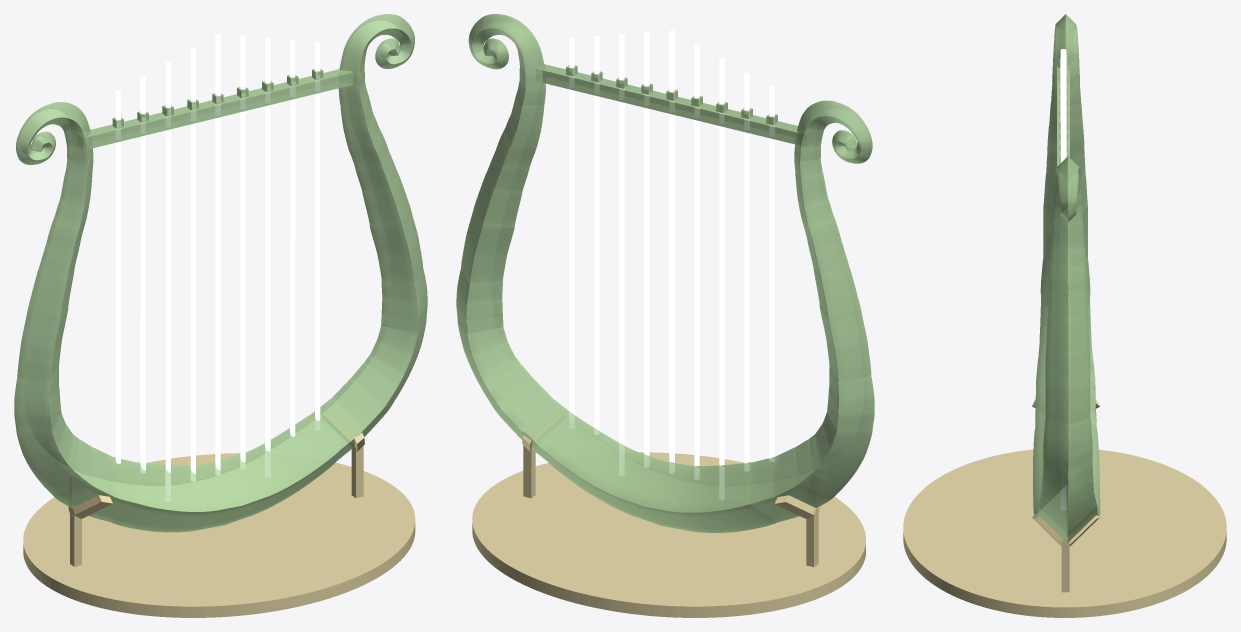
The model's file is ulisse.glb.
The picture shows the model from 3 angles, left to right: view 1: azimuth 30°, elevation 25°; view 2: azimuth 150°, elevation 25°; view 3: azimuth 270°, elevation 25°; orthographic projection. The views are drawn at different scales.
Visible parts, largest first — view 1: BézierCurve.005, Cylinder.091, Cube.003, Cylinder.078, Cylinder.074, Cylinder.076, Cylinder.077, Cylinder.075, Cylinder.079, Cylinder.073, Cylinder.080, Cylinder.072 (+4 smaller); view 2: BézierCurve.005, Cylinder.091, Cube.003, Cylinder.078, Cylinder.074, Cylinder.076, Cylinder.077, Cylinder.075, Cylinder.080, Cylinder.079, Cylinder.073, Cylinder.072 (+4 smaller); view 3: Cylinder.091, BézierCurve.005, Plane.002, Cube.003.
Part boxes in pixels (bbox=[...]): BézierCurve.005: bbox=[14, 14, 427, 532]; Cylinder.091: bbox=[23, 453, 415, 617]; Cube.003: bbox=[77, 68, 353, 149]; Cylinder.078: bbox=[265, 86, 270, 477]; Cylinder.074: bbox=[165, 110, 170, 501]; Cylinder.076: bbox=[215, 99, 220, 475]; Cylinder.077: bbox=[240, 93, 245, 468]; Cylinder.075: bbox=[190, 105, 196, 481]; Cylinder.079: bbox=[290, 81, 295, 436]; Cylinder.073: bbox=[140, 118, 145, 473]; Cylinder.080: bbox=[315, 75, 320, 430]; Cylinder.072: bbox=[115, 124, 120, 463]; BézierCurve.005: bbox=[456, 14, 874, 532]; Cylinder.091: bbox=[472, 452, 865, 617]; Cube.003: bbox=[536, 64, 813, 146]; Cylinder.078: bbox=[619, 88, 624, 475]; Cylinder.074: bbox=[719, 113, 724, 499]; Cylinder.076: bbox=[669, 95, 674, 473]; Cylinder.077: bbox=[644, 94, 649, 467]; Cylinder.075: bbox=[694, 107, 699, 479]; Cylinder.080: bbox=[569, 72, 574, 428]; Cylinder.079: bbox=[594, 78, 599, 434]; Cylinder.073: bbox=[744, 114, 749, 471]; Cylinder.072: bbox=[769, 120, 774, 461]; Cylinder.091: bbox=[903, 449, 1226, 617]; BézierCurve.005: bbox=[1033, 14, 1100, 543]; Plane.002: bbox=[1032, 399, 1099, 545]; Cube.003: bbox=[1057, 66, 1069, 166].
Size of the model in its own units: 0.3684 by 0.43 by 0.2674.
